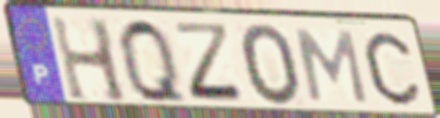C: (361, 29, 423, 108)
H: (47, 13, 132, 106)
M: (292, 26, 371, 107)
O: (237, 21, 304, 109)
Q: (115, 15, 192, 108)
Z: (170, 21, 250, 106)
